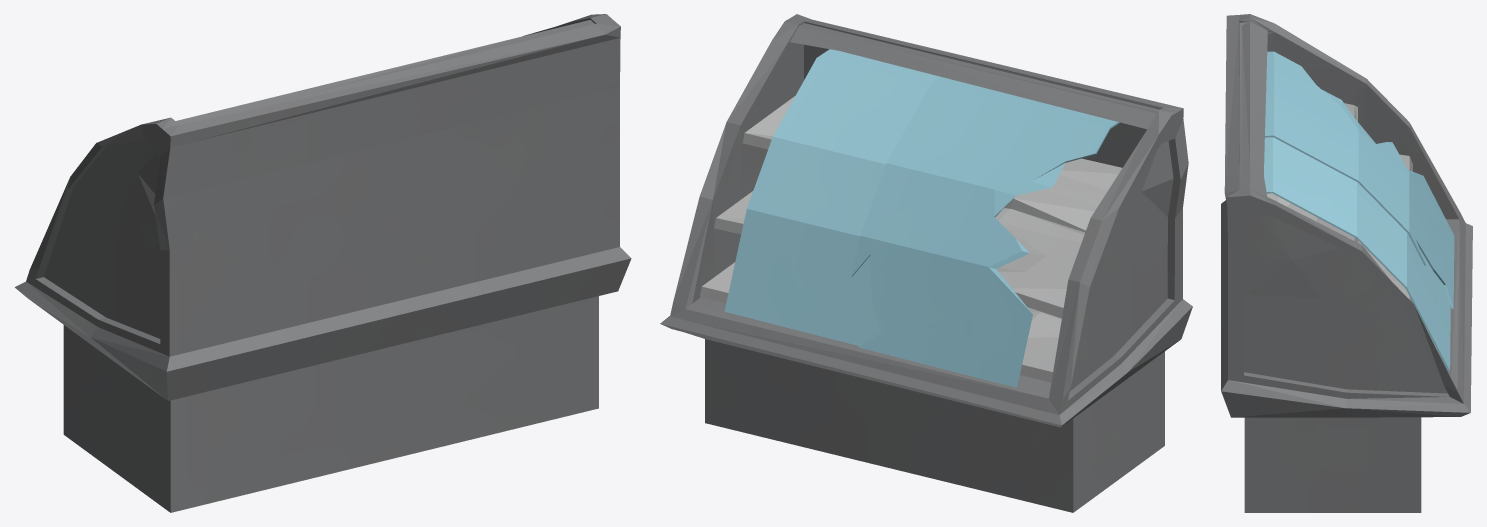
The model's file is freezer_2.obj.
3 views of the same model, side by side, from view 1: azimuth 30°, elevation 25°; view 2: azimuth 150°, elevation 25°; view 3: azimuth 270°, elevation 25° (orthographic). The views are drawn at different scales.
Visible parts, largest first — view 1: freezer_2_Mesh; view 2: freezer_2_Mesh, glassA_freezer_2_Mesh, glassb_freezer_2_Mesh; view 3: freezer_2_Mesh, glassA_freezer_2_Mesh, glassb_freezer_2_Mesh.
Boxes of the visible parts, box(x1,y1,x2,y2) form: freezer_2_Mesh: box(14, 14, 631, 512); freezer_2_Mesh: box(660, 14, 1192, 512); glassA_freezer_2_Mesh: box(851, 77, 1119, 387); glassb_freezer_2_Mesh: box(724, 49, 940, 345); freezer_2_Mesh: box(1221, 14, 1472, 512); glassA_freezer_2_Mesh: box(1265, 51, 1454, 308); glassb_freezer_2_Mesh: box(1264, 137, 1450, 370).
Bounding box in the file's own units: 1.35 × 1.08 × 0.76.
